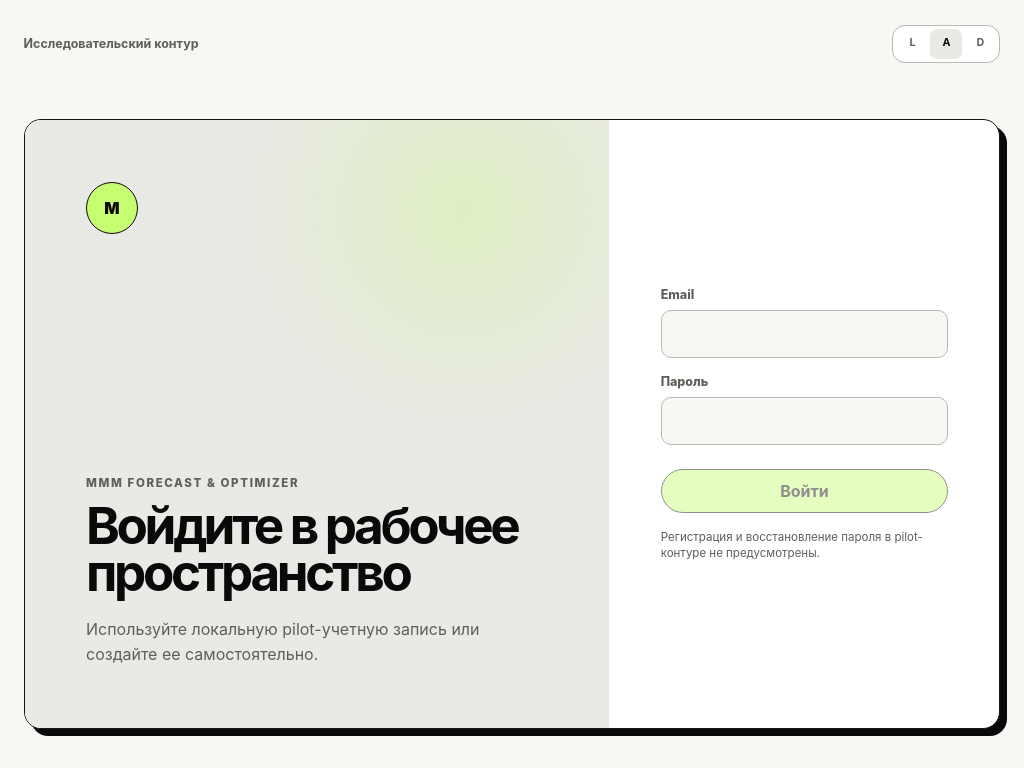
LoginView › disables duplicate submit while login is pending
Type "user@example.org" into the field labelled "Email" at coordinates (804, 334), box [661,310,948,358]
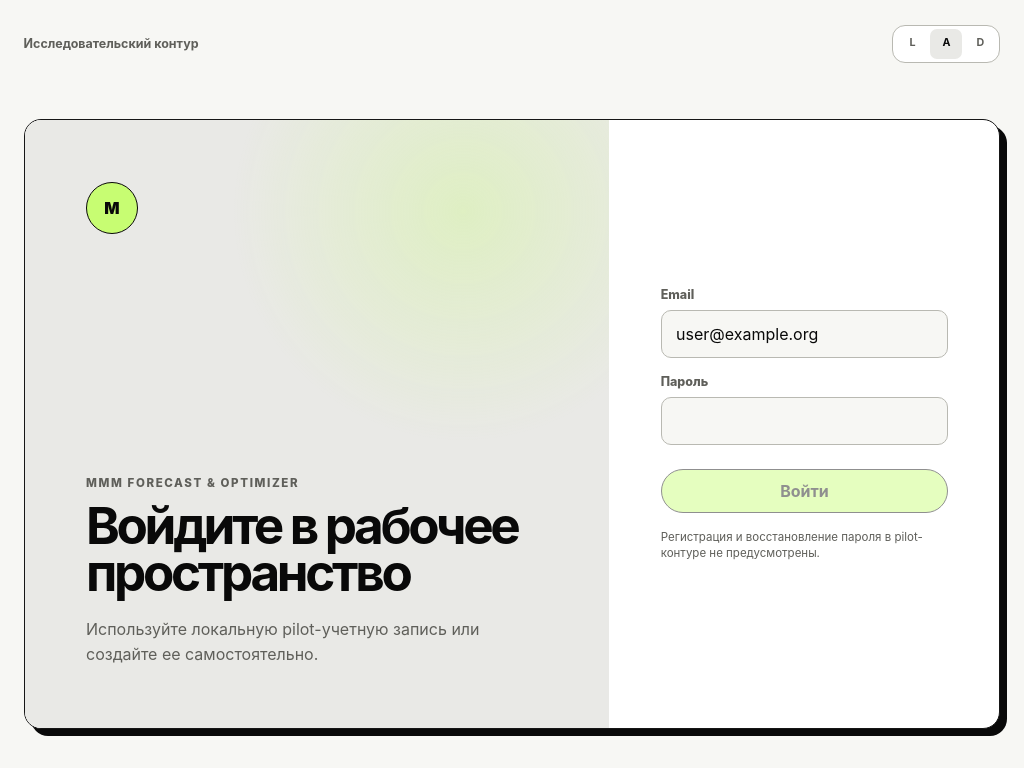
Type "Pilot-password-2026" into the password field labelled "Пароль" at coordinates (804, 421), box [661,397,948,445]
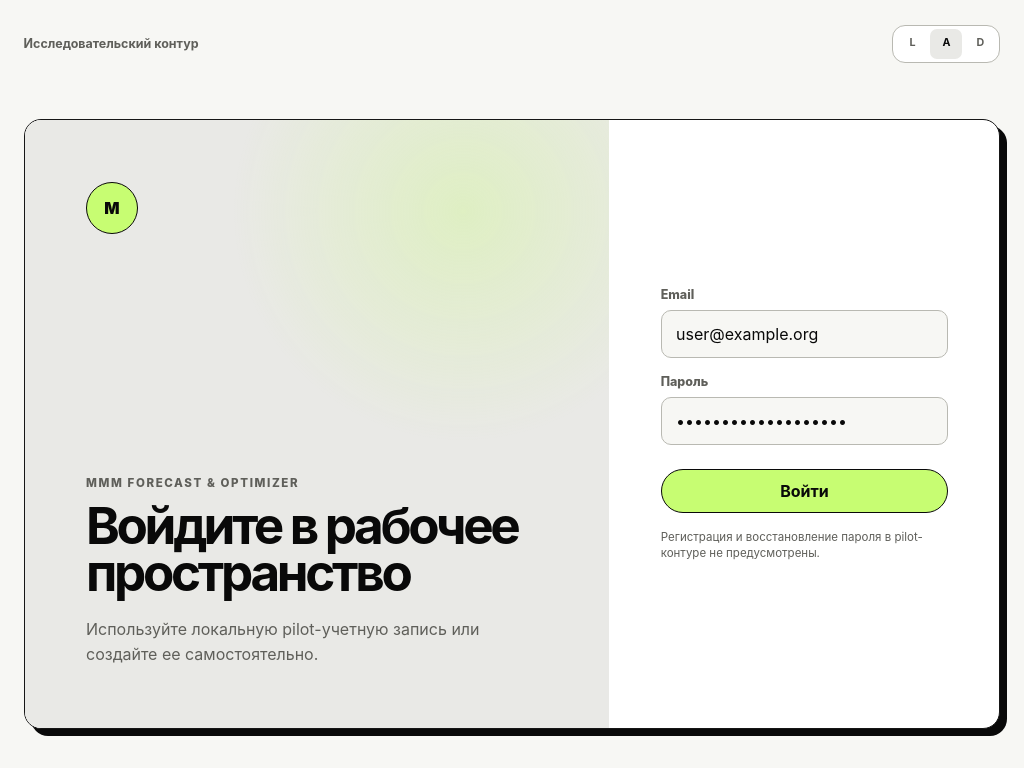
Submit the form "Войти", box [661,287,948,560]
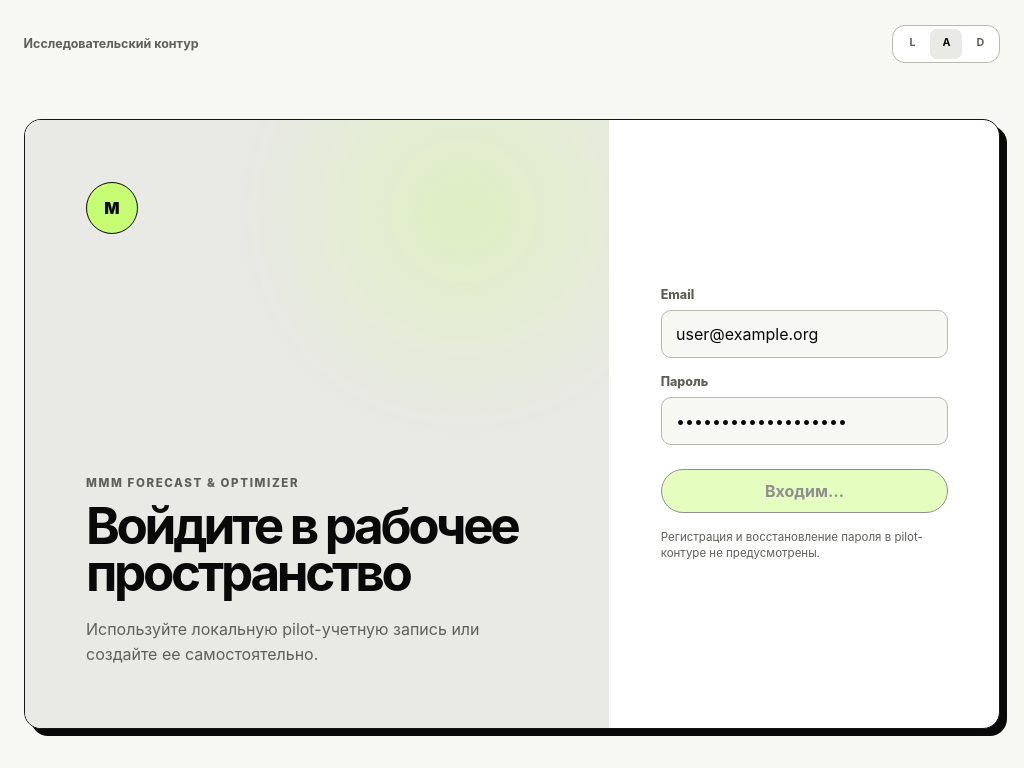
expect the button "Входим…" is disabled: met, box [661,469,948,513]
Submit the form named "Войти", box [661,287,948,560]
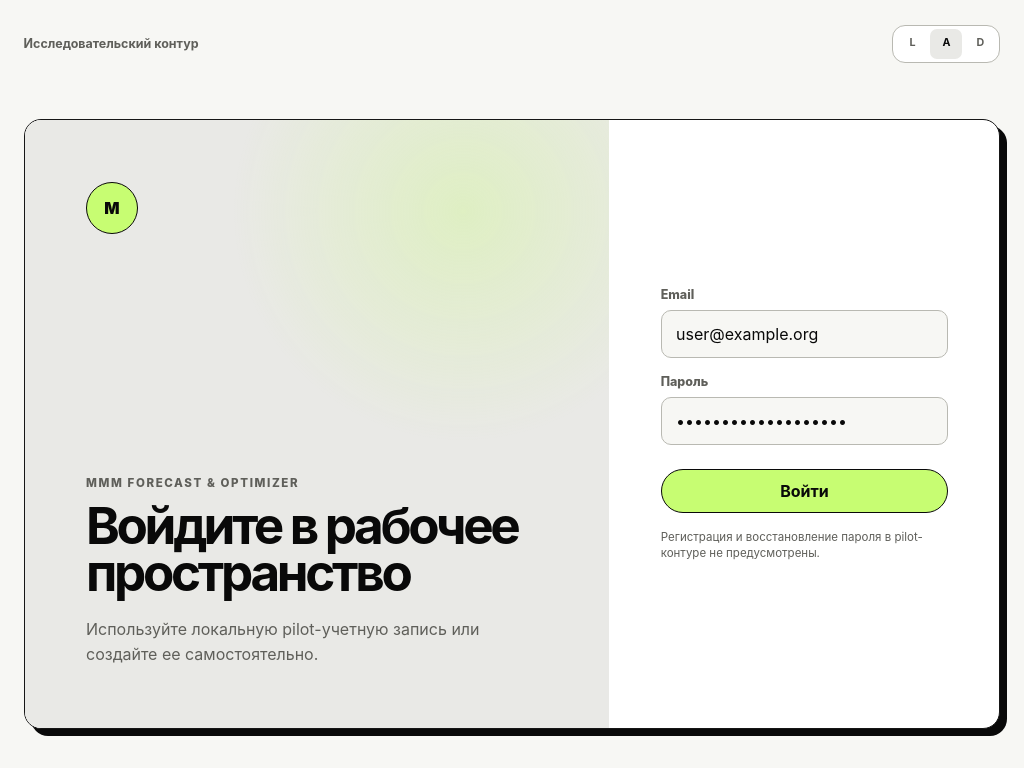
expect the button "Войти" is enabled: met, box [661,469,948,513]
